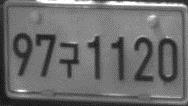0: (156, 36, 178, 84)
1: (109, 34, 126, 82), (86, 34, 102, 82)
2: (131, 35, 155, 83)
7: (33, 31, 56, 77)
9: (11, 32, 33, 77)
구: (58, 40, 80, 79)
